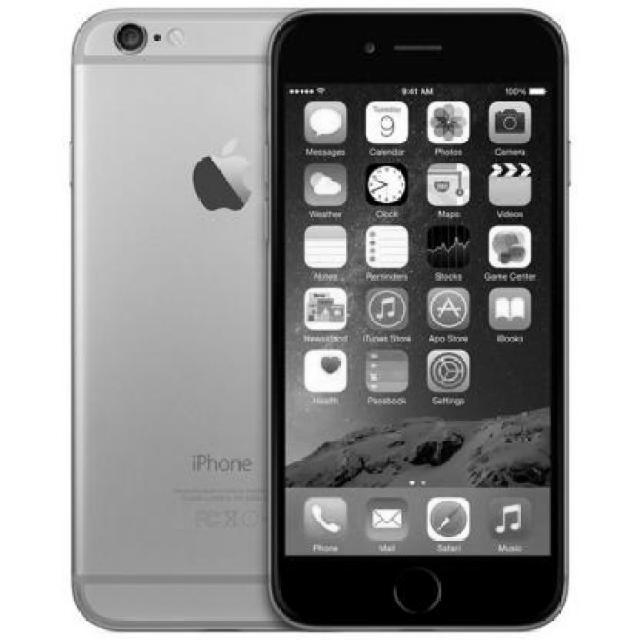fake: (263, 12, 586, 543), (68, 4, 306, 632)
